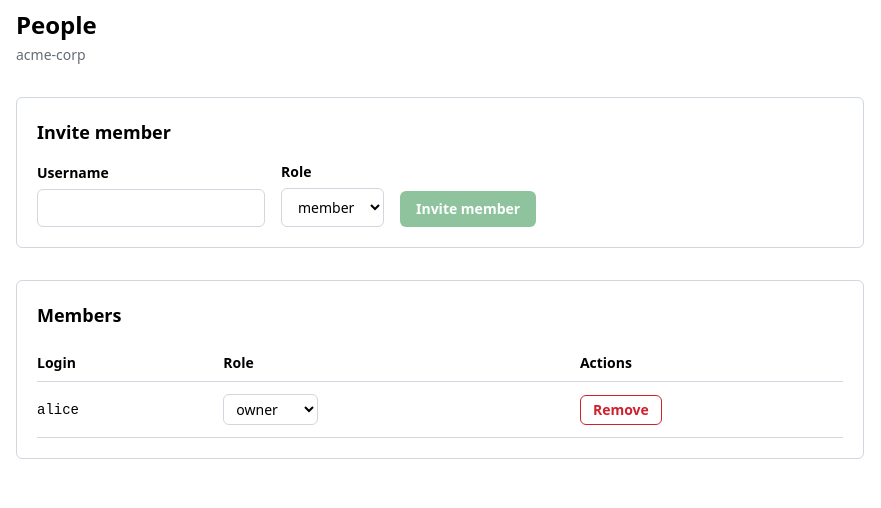
Test: OrgPeoplePage › shows inline error on 403 invite attempt
Expected: the heading "Invite member" is shown, [37, 120, 171, 144]
Type "stranger" into the field labelled "Username".
click(151, 208); type("stranger")  # box [37, 189, 265, 227]
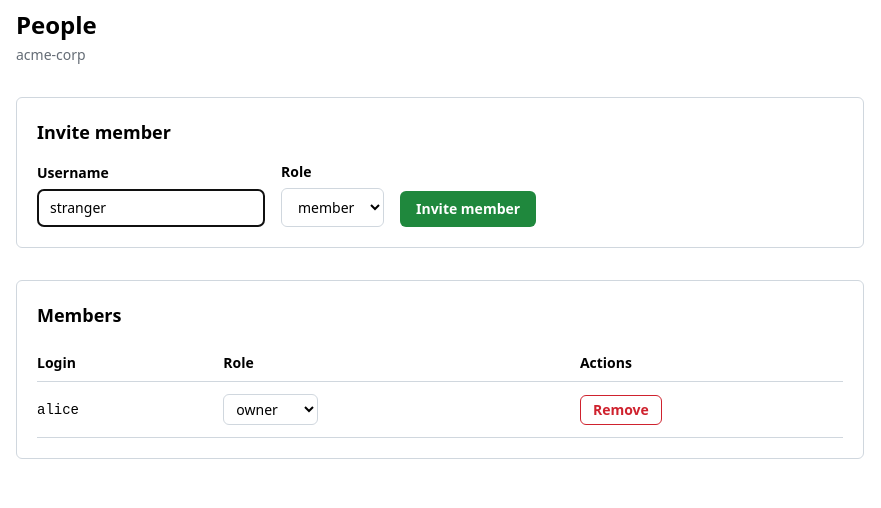
Click the button "Invite member".
click(468, 209)  # box [400, 191, 536, 227]
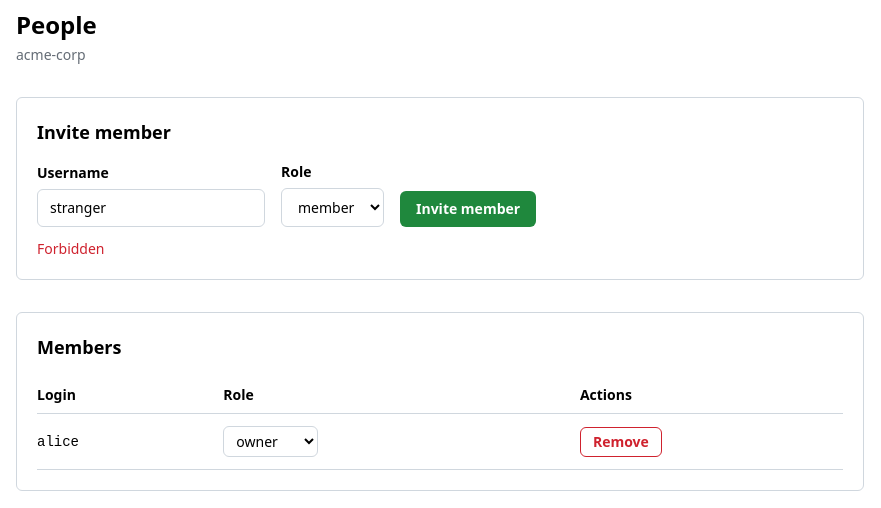
Expected: the text "Forbidden" is shown, [37, 239, 104, 258]
